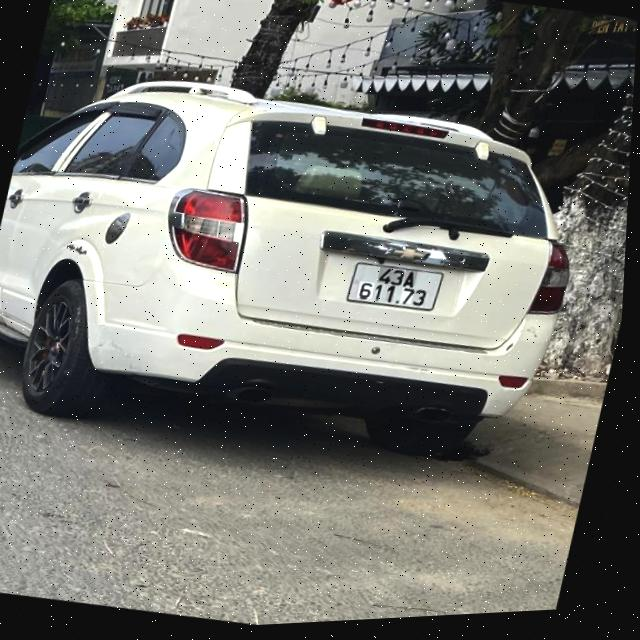car: (0, 25, 631, 514)
plate: (338, 245, 454, 325)
